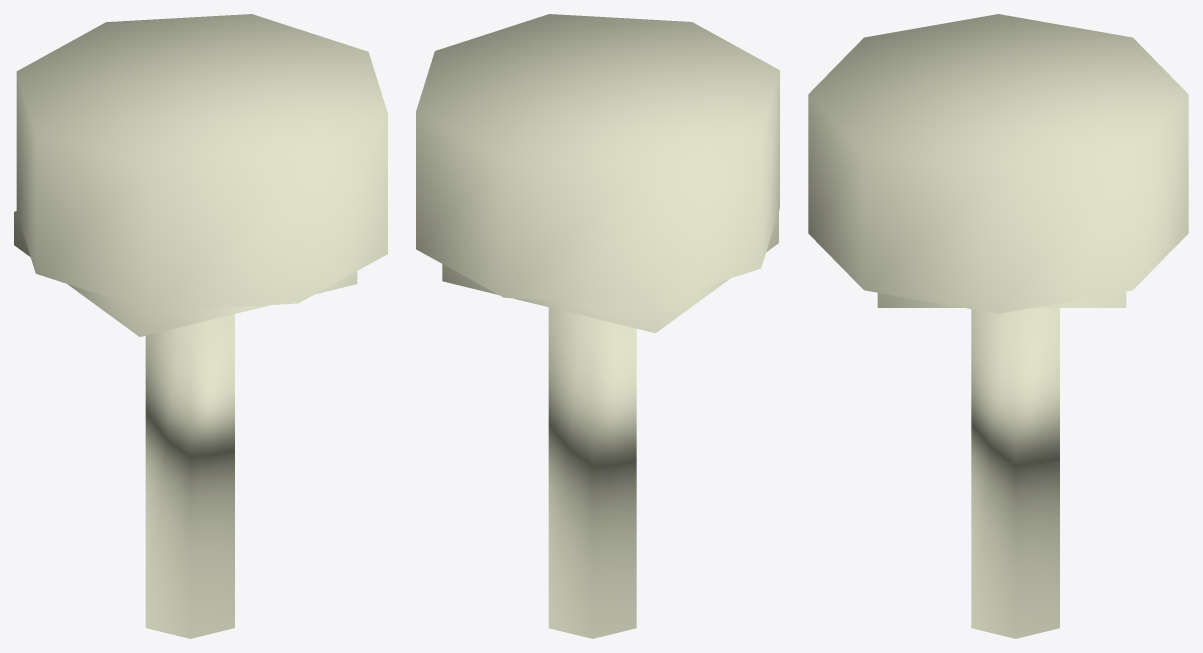
The model's file is ps2_jrpg_imperial_outpost_signal_brazier.obj.
3 renders of one model, left to right at view 1: azimuth 30°, elevation 25°; view 2: azimuth 150°, elevation 25°; view 3: azimuth 270°, elevation 25°, orthographic. The views are drawn at different scales.
Size of the model in its own units: 1.04 by 1.58 by 1.04.
